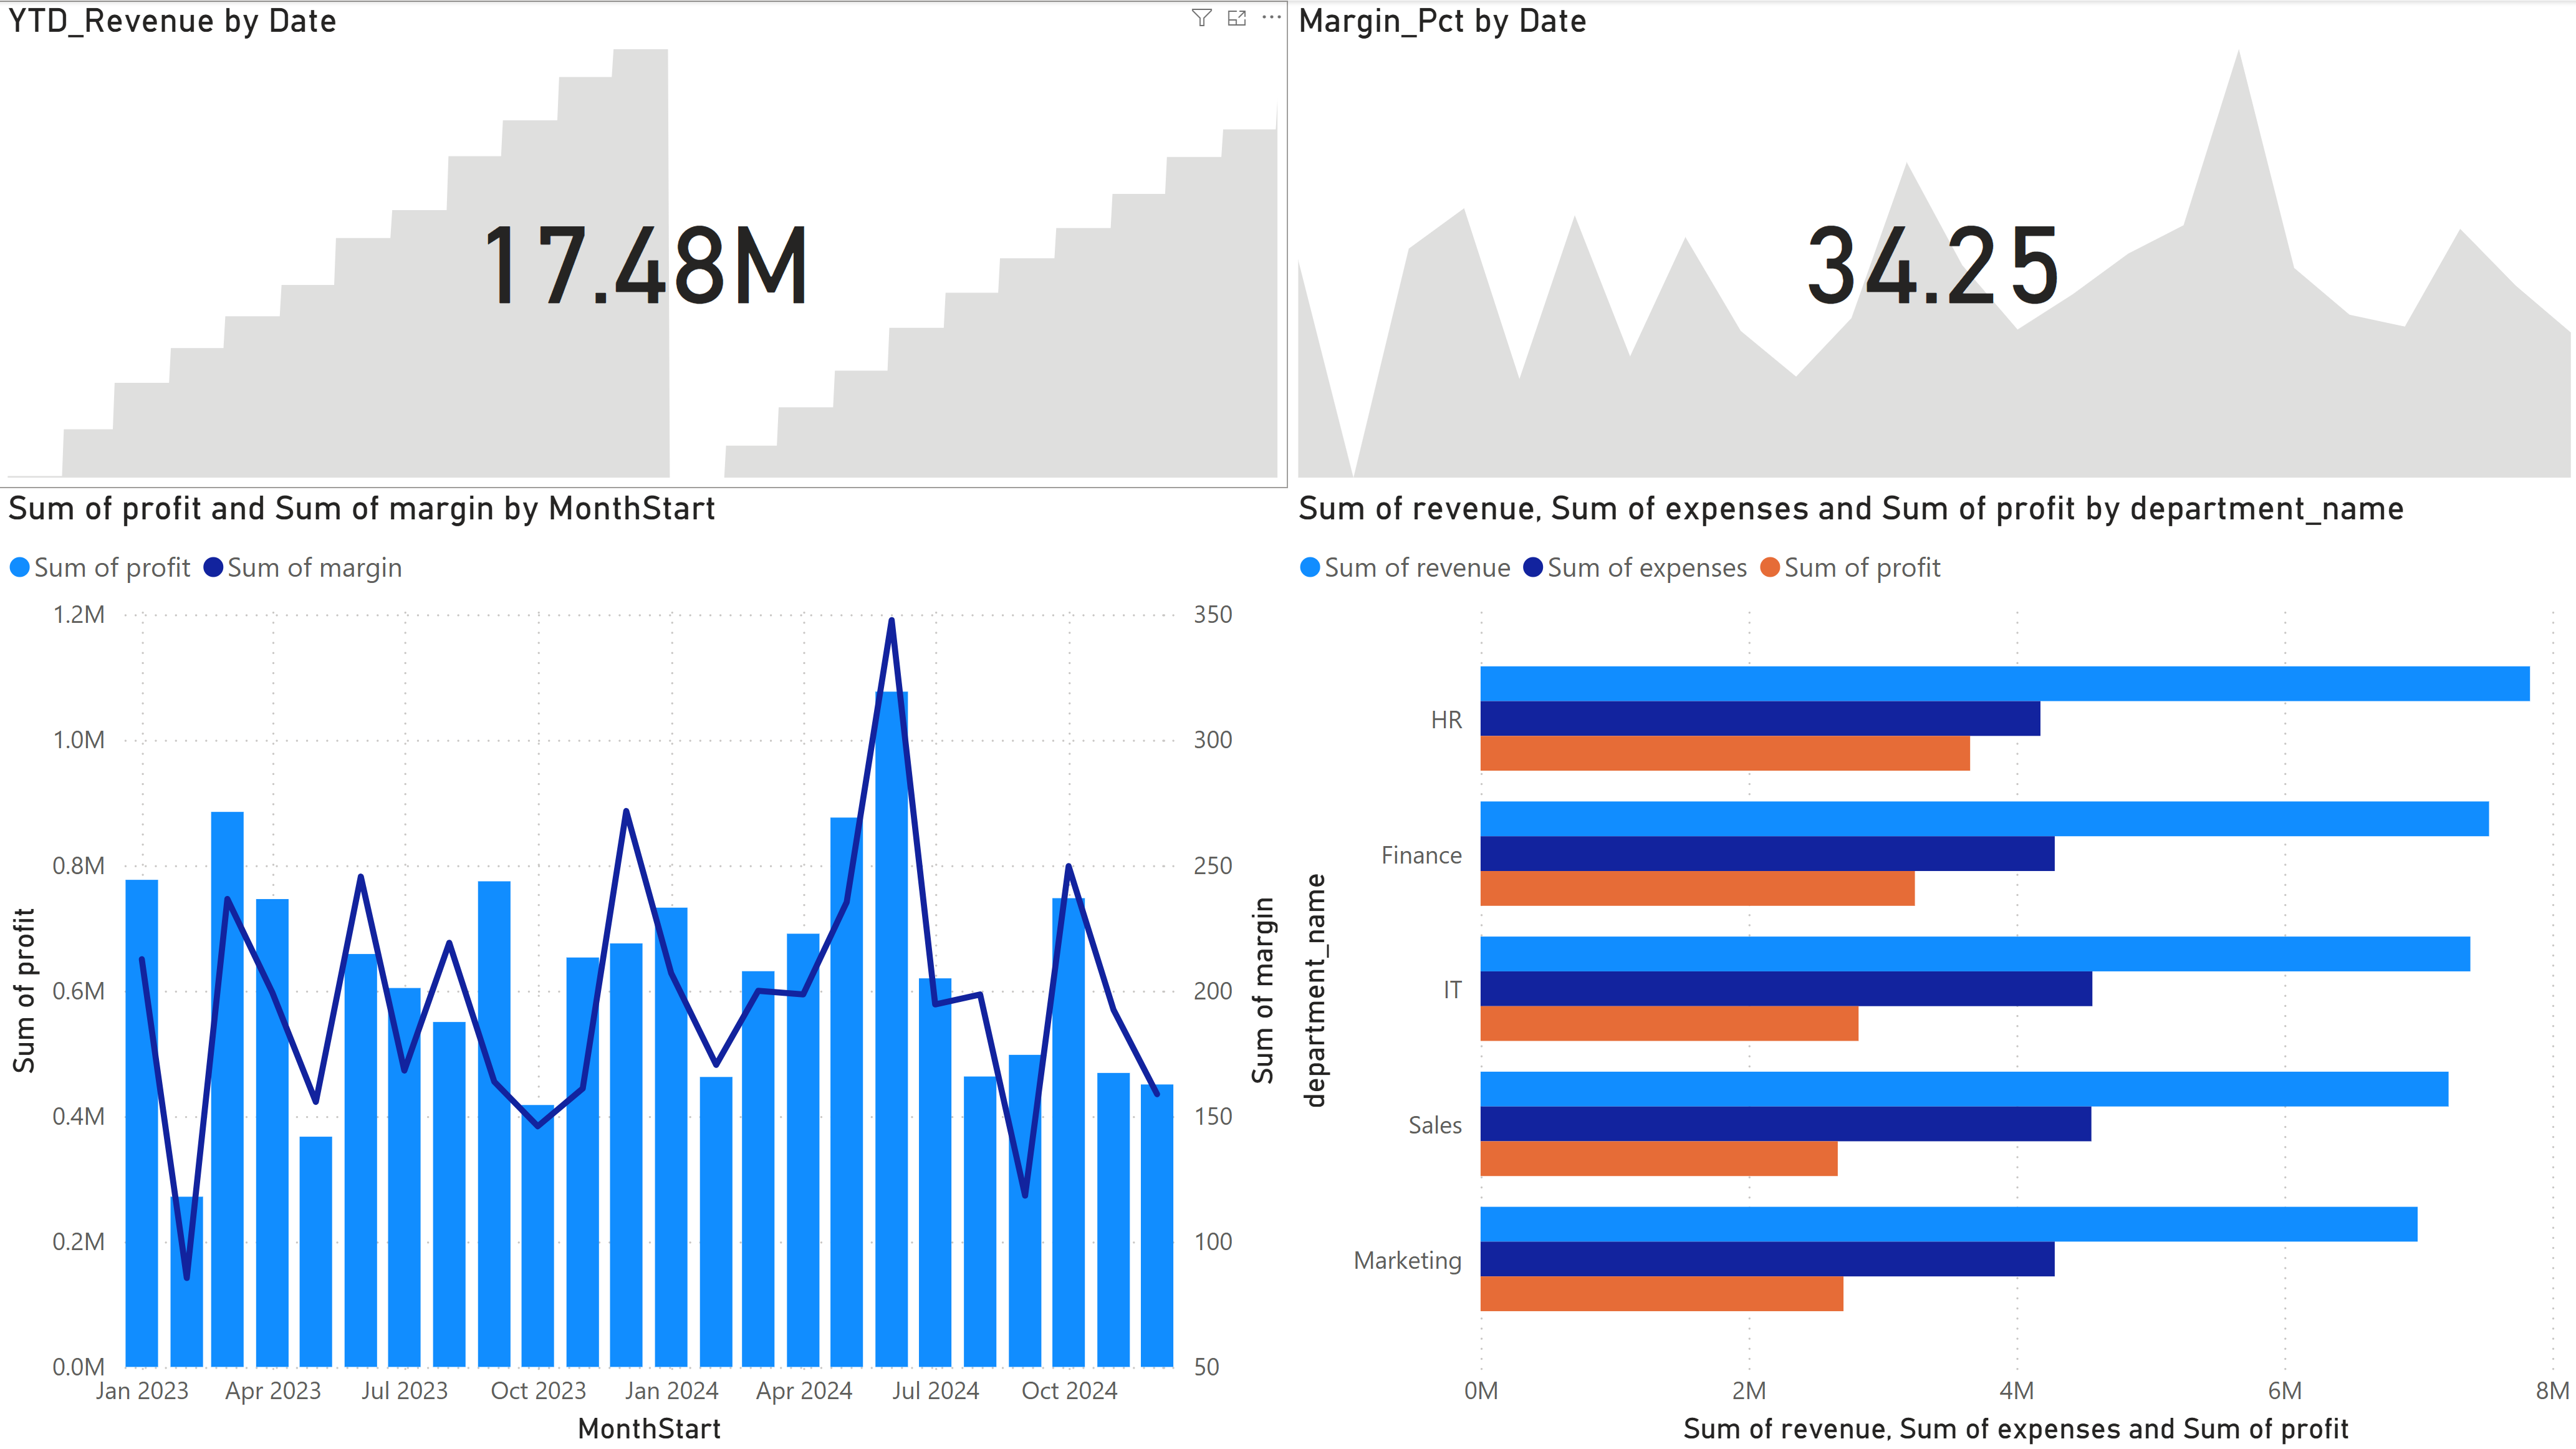

This screenshot's page, from the dashboard's own definition file:
{"tool":"powerbi","page":{"name":"Department Financial Performance","canvas":[1280,720],"ordinal":0},"visuals":[{"type":"clusteredBarChart","fields":{"Category":["departments.department_name"],"Y":["Sum(financials.revenue)","Sum(financials.expenses)","Sum(financials.profit)"]},"box":[639.6,241.5,640.9,479],"z":0},{"type":"lineClusteredColumnComboChart","fields":{"Y":["Sum(financials.profit)"],"Y2":["Sum(financials.margin)"],"Category":["financials.MonthStart"]},"box":[0,241.5,639.6,479],"z":1000},{"type":"kpi","fields":{"Indicator":["financials.YTD_Revenue"],"TrendLine":["Date.Date"]},"box":[0,0,639.6,241.5],"z":2000},{"type":"kpi","fields":{"Indicator":["financials.Margin_Pct"],"TrendLine":["Date.Date"]},"box":[639.6,0,640.9,241.5],"z":3000}]}

Visuals, with their boxes in screenshot pixels (x1, y1, x2, y2), scaled from the page's 1280x720 canvas onto the 2576x1449 screenshot:
clusteredBarChart - departments.department_name x Sum(financials.revenue): detection(1287, 486, 2575, 1448)
lineClusteredColumnComboChart - Sum(financials.profit) x Sum(financials.margin): detection(0, 486, 1287, 1448)
kpi - financials.YTD_Revenue x Date.Date: detection(0, 0, 1287, 486)
kpi - financials.Margin_Pct x Date.Date: detection(1287, 0, 2575, 486)
